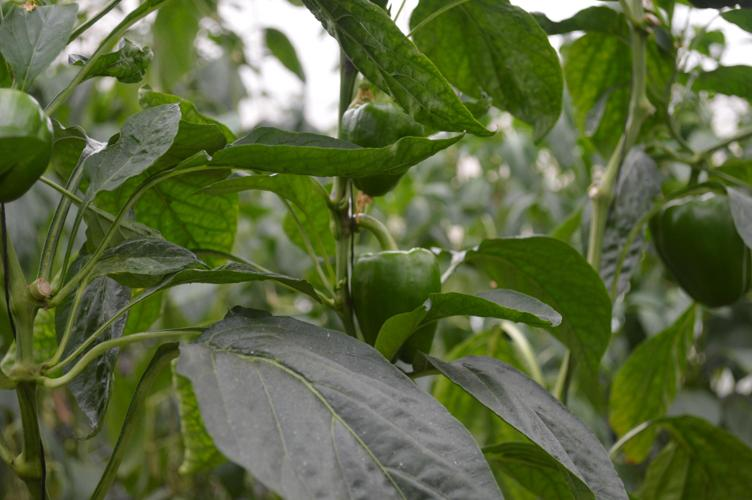BellPepper: (346, 248, 453, 355), (649, 200, 752, 302), (332, 104, 431, 203)
